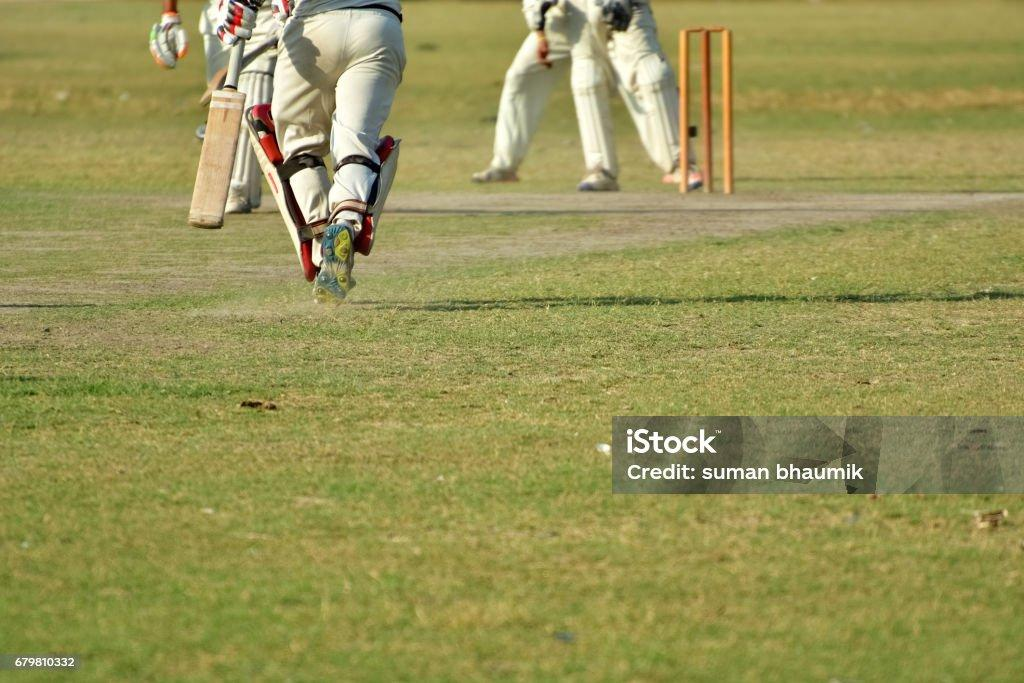batsman: (212, 0, 432, 295)
